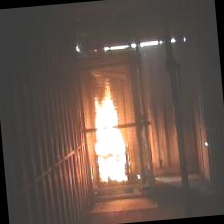fire: (82, 70, 132, 192)
